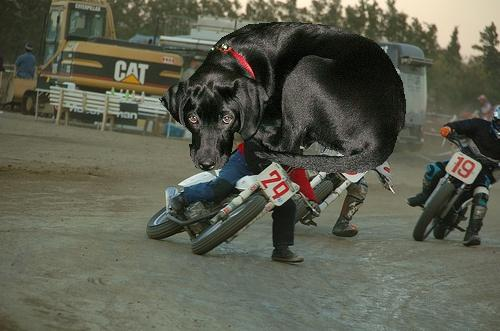tampered: (160, 23, 406, 173)
